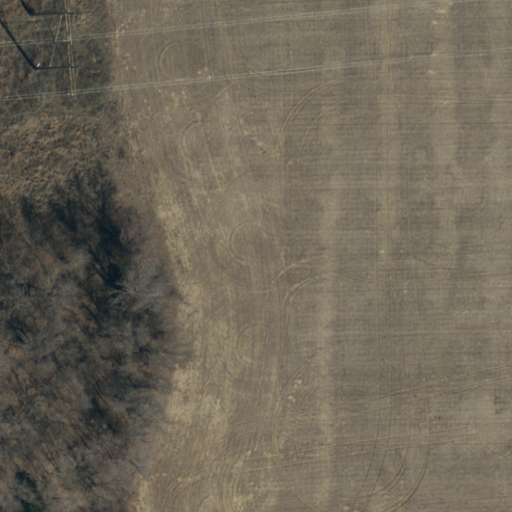TT: (26, 4, 87, 99)
